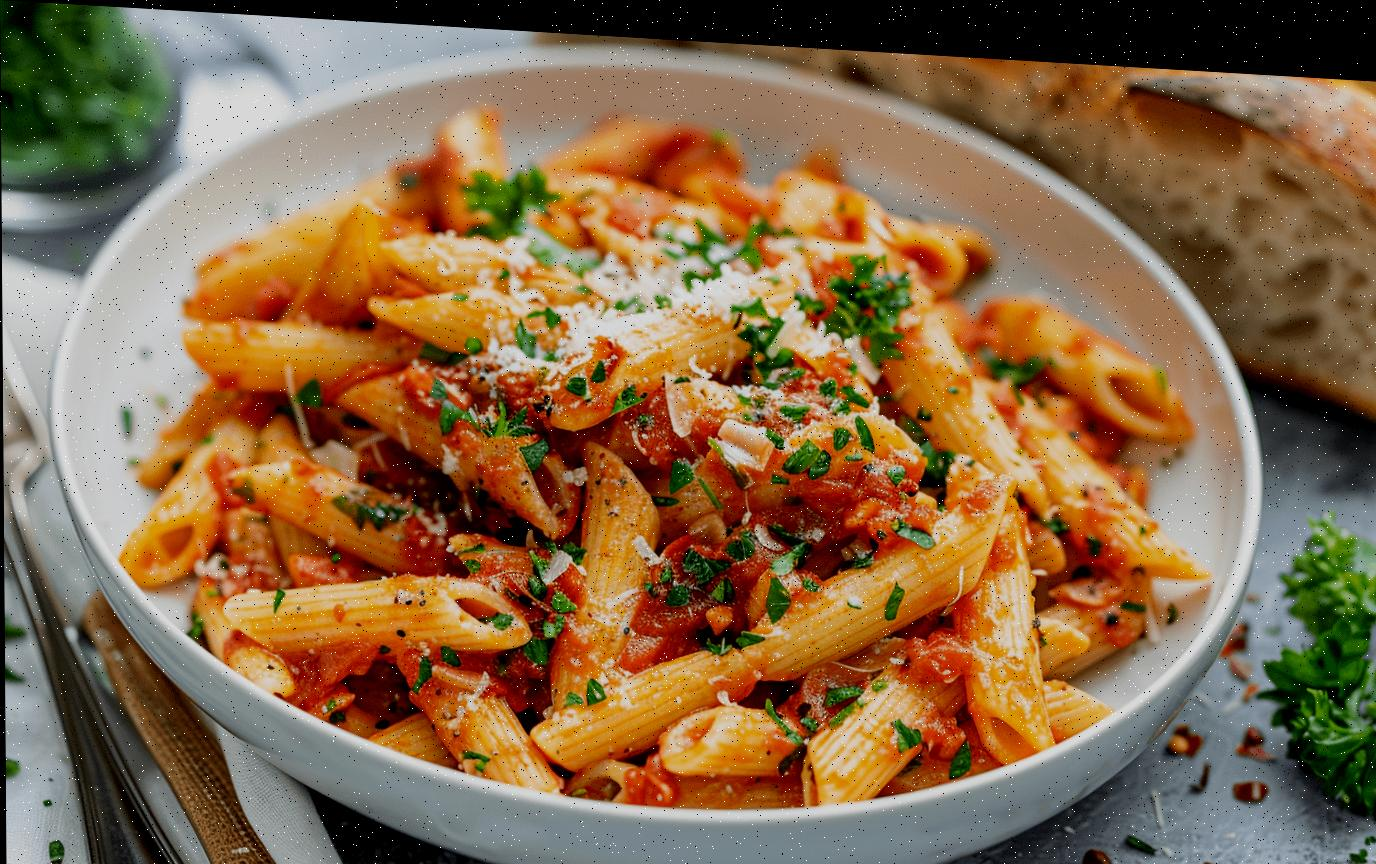pasta: (123, 107, 1207, 807)
